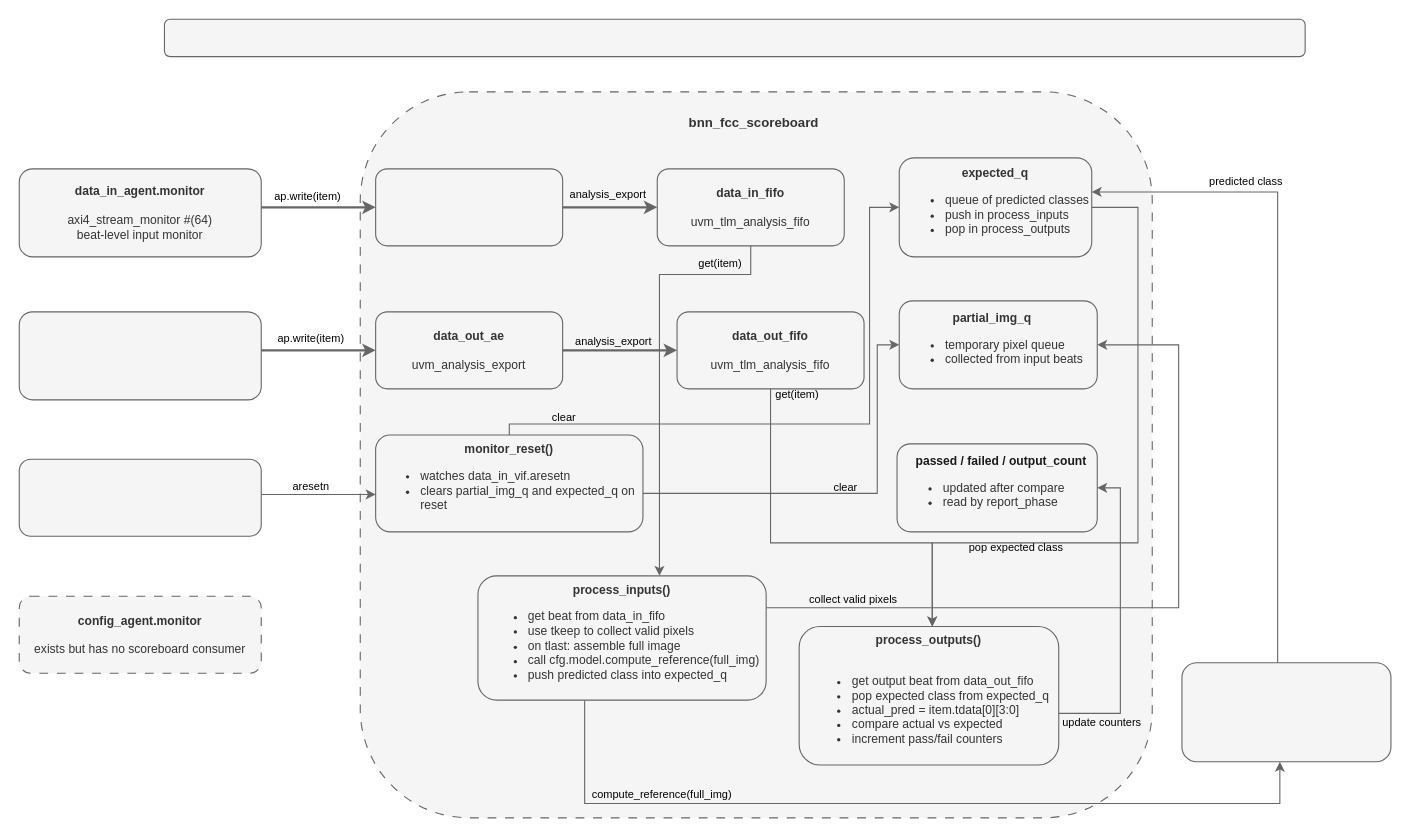
Some shapes in this 1410 by 837 pixel diagram are drawn without their labels. The shapes that lost their labels are listed below. From the top down, each one's centre as x and y in pixels, then its label:
At (x=734, y=37): "scoreboard_internals_tlm_dataflow".
At (x=469, y=207): "data_in_ae uvm_analysis_export".
At (x=139, y=355): "data_out_monitor axi4_stream_monitor #(8) observes DUT output beats".
At (x=139, y=497): "data_in_vif aresetn used by scoreboard reset handling".
At (x=1286, y=712): "cfg.model BNN_FCC_Model compute_reference(img) -> class".
